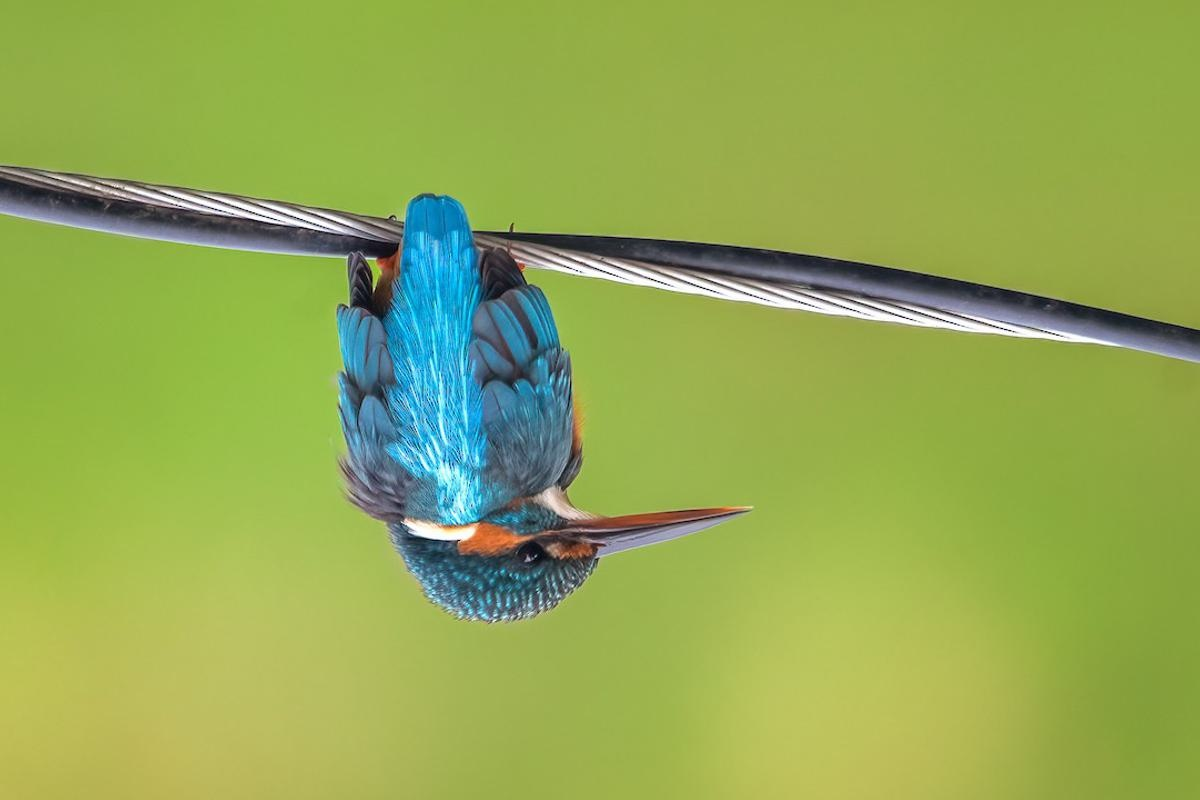kingfisher: (285, 202, 761, 633)
